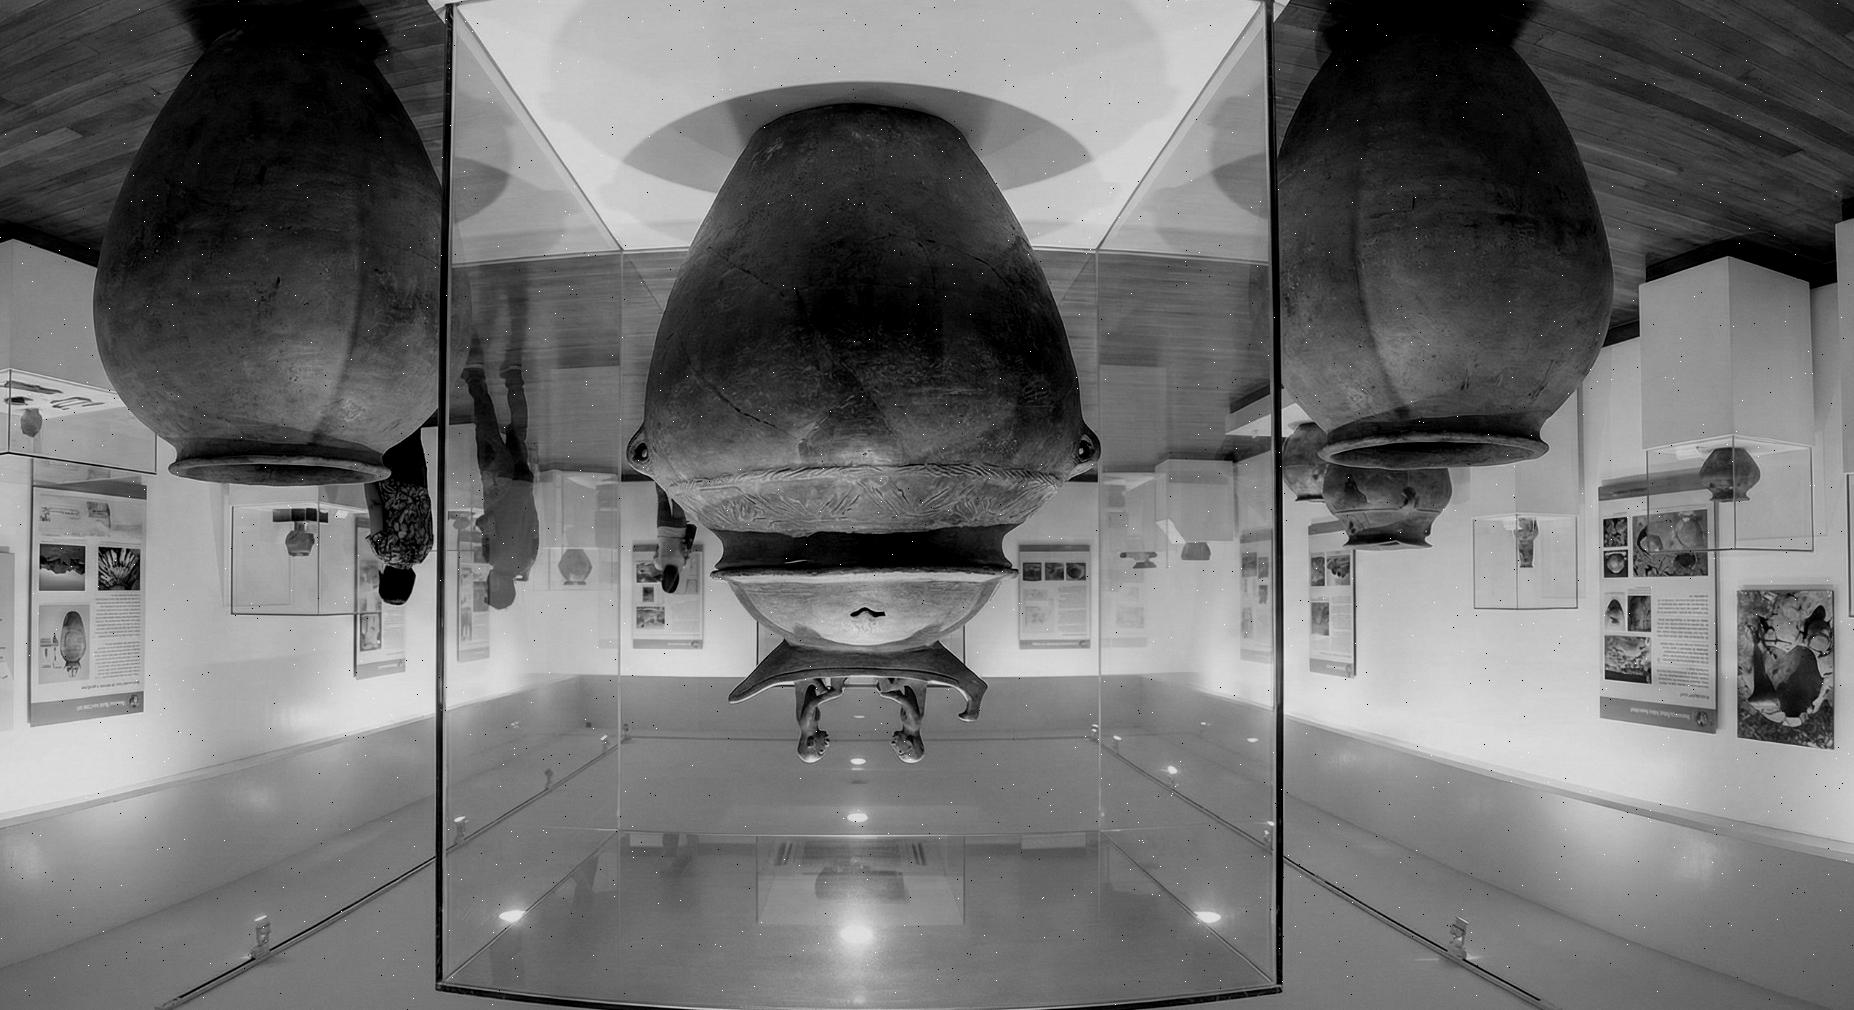manunggul_jar: (609, 90, 1110, 790)
